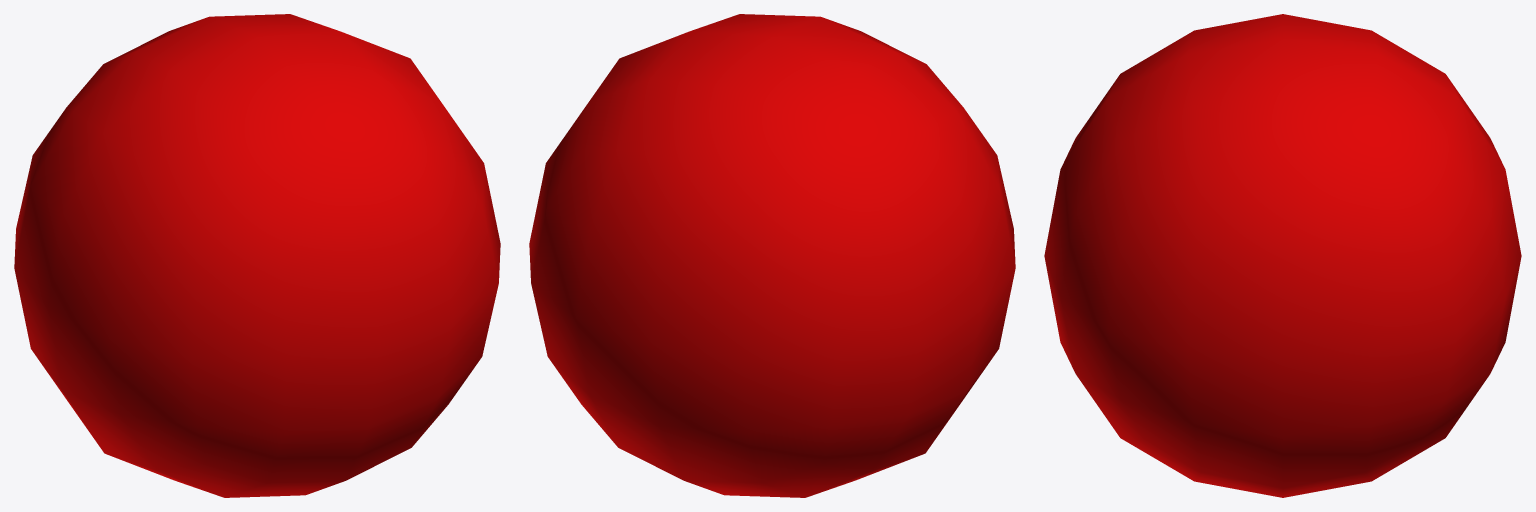
File: zeometry-organic-forms-lumpy-sphere_v2.glb
The picture shows the model from 3 angles, left to right: view 1: azimuth 30°, elevation 25°; view 2: azimuth 150°, elevation 25°; view 3: azimuth 270°, elevation 25°; orthographic projection.
Visible parts, largest first — view 1: Lumpy Sphere_v2; view 2: Lumpy Sphere_v2; view 3: Lumpy Sphere_v2.
Boxes of the visible parts, box(x1,y1,x2,y2) form: Lumpy Sphere_v2: box(14, 14, 500, 497); Lumpy Sphere_v2: box(529, 14, 1015, 497); Lumpy Sphere_v2: box(1044, 14, 1521, 497).
Bounding box in the file's own units: 0.5 × 0.5 × 0.5.
